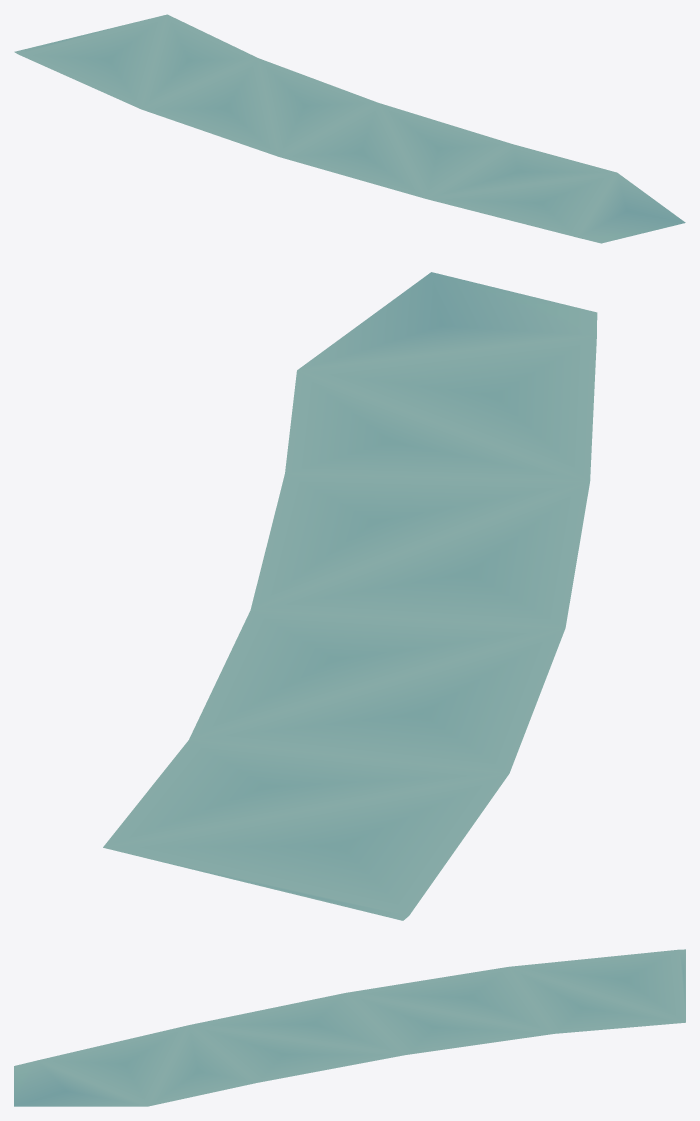
The model's file is water-15-9.glb.
3 renders of one model, top to bottom at view 1: azimuth 30°, elevation 25°; view 2: azimuth 150°, elevation 25°; view 3: azimuth 270°, elevation 25°, orthographic. The views are drawn at different scales.
Bounding box in the file's own units: 8.85 × 0 × 16.
